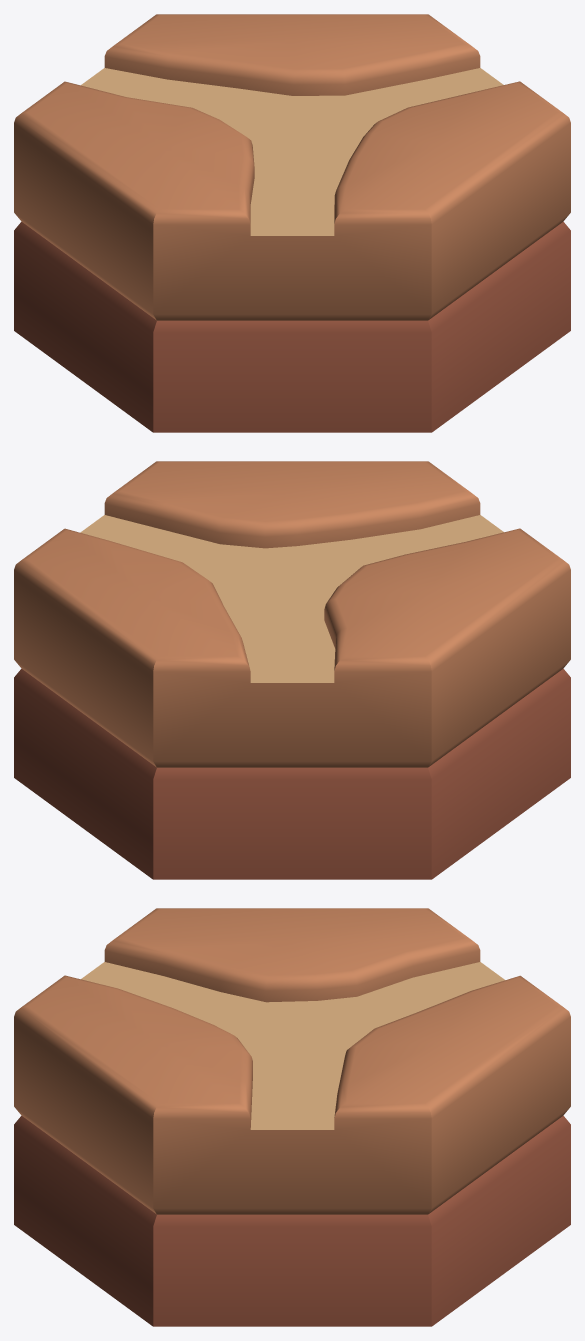
File: hex_rock_roadG_detail.glb
3 renders of one model, top to bottom at view 1: azimuth 30°, elevation 25°; view 2: azimuth 150°, elevation 25°; view 3: azimuth 270°, elevation 25°, orthographic.
Visible parts, largest first — view 1: hex_rock_roadG_detail; view 2: hex_rock_roadG_detail; view 3: hex_rock_roadG_detail.
Boxes of the visible parts, x1,y1,x2,y2 form: hex_rock_roadG_detail: (14, 14, 570, 432); hex_rock_roadG_detail: (14, 461, 570, 879); hex_rock_roadG_detail: (14, 908, 570, 1326).
Bounding box in the file's own units: 3.82 × 1.91 × 4.41.
